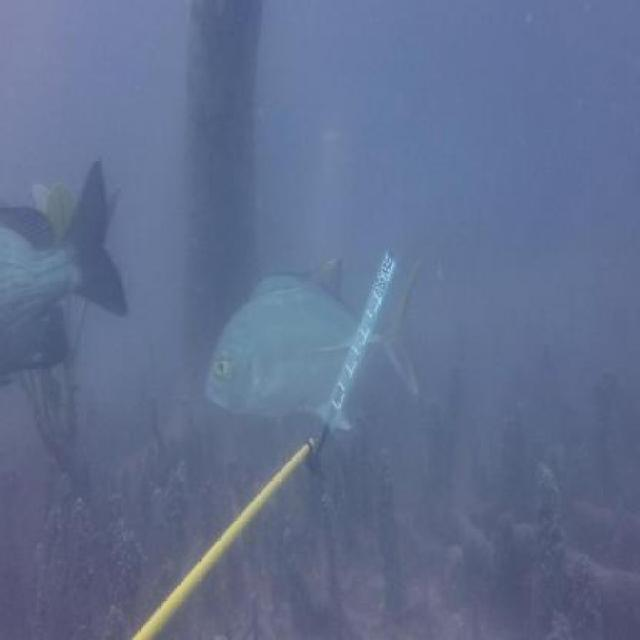Caranx: (206, 256, 425, 441)
acanthopagrus_palmaris: (0, 158, 134, 385), (247, 263, 307, 303)
